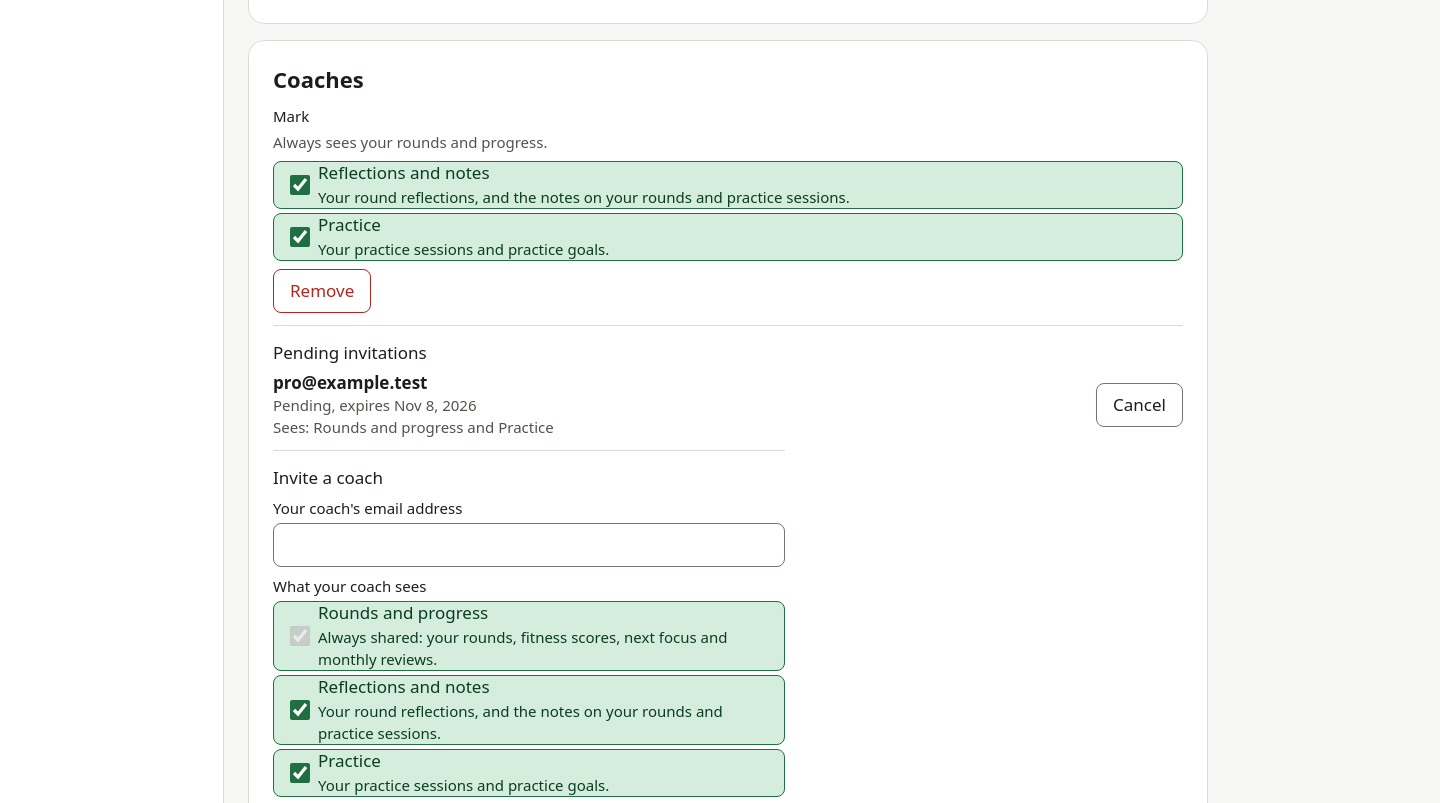
Test: Profile → Coaches (#185) › shows active coaches, and cancels a pending invitation
(page scrolled)
Expected: the text "Mark" is shown, [273, 105, 309, 127]
Expected: the text "Always sees your rounds and progress." is shown, [273, 132, 548, 152]
Click the button with aria-label "Cancel the invitation to pro@example.test": (1140, 405) [1096, 383, 1183, 427]
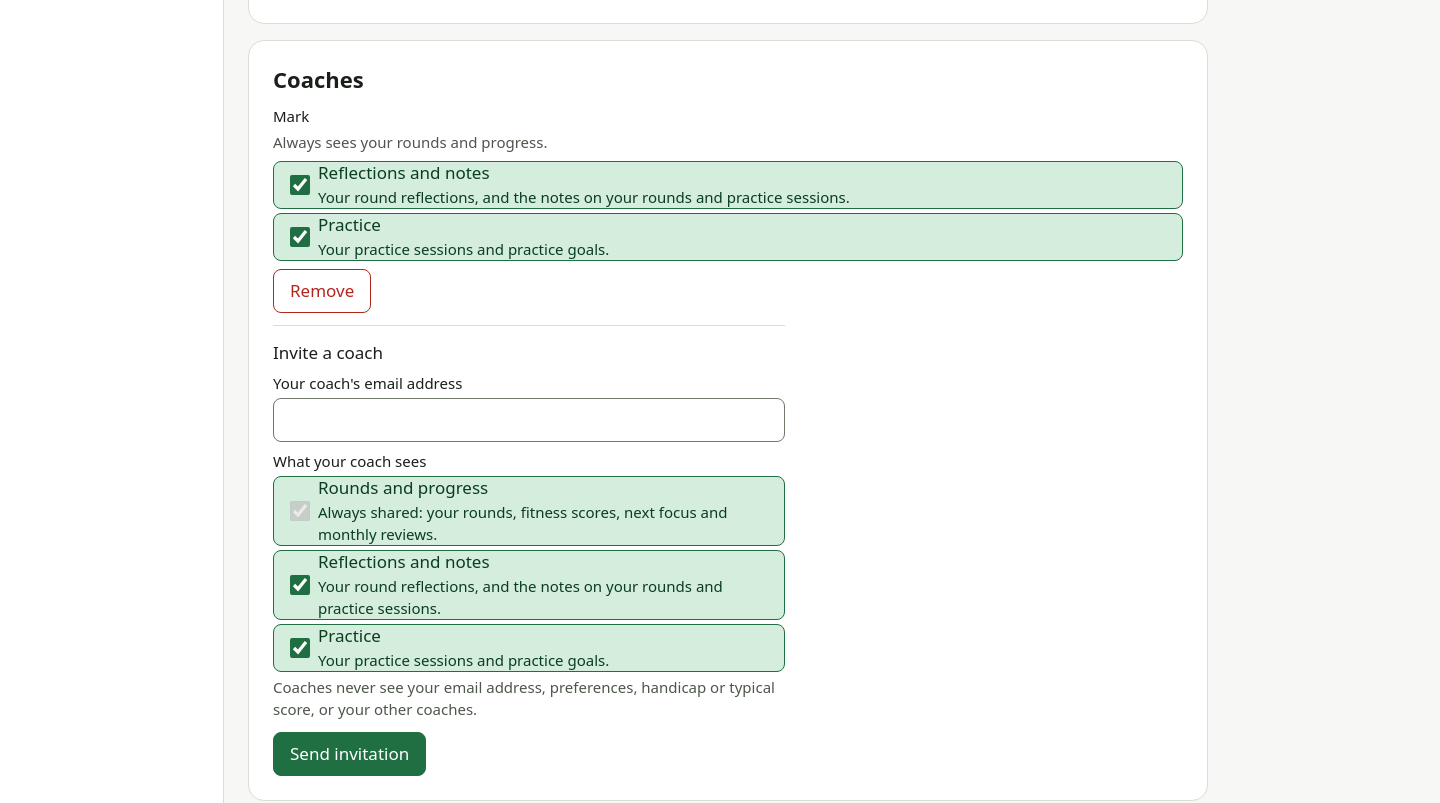
Expected: the text "Mark" is shown, [273, 105, 309, 127]
Result: the text "pro@example.test" is gone
